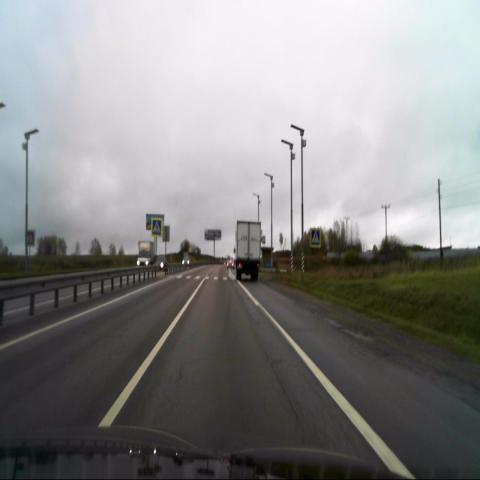5_19_1: (310, 228, 321, 247), (152, 217, 162, 237)
